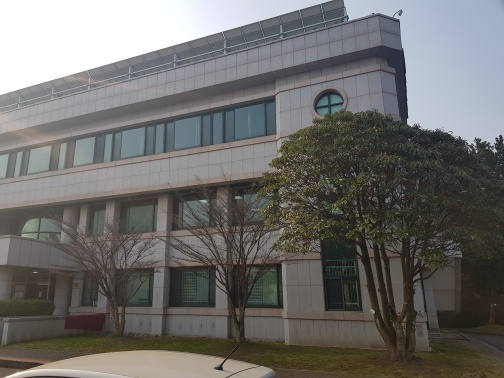Information Telecommunication Center: (4, 18, 411, 346)
